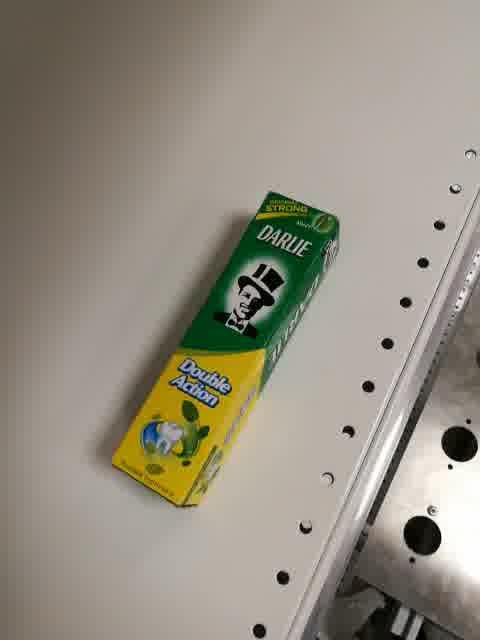toothpaste: (108, 191, 341, 509)
